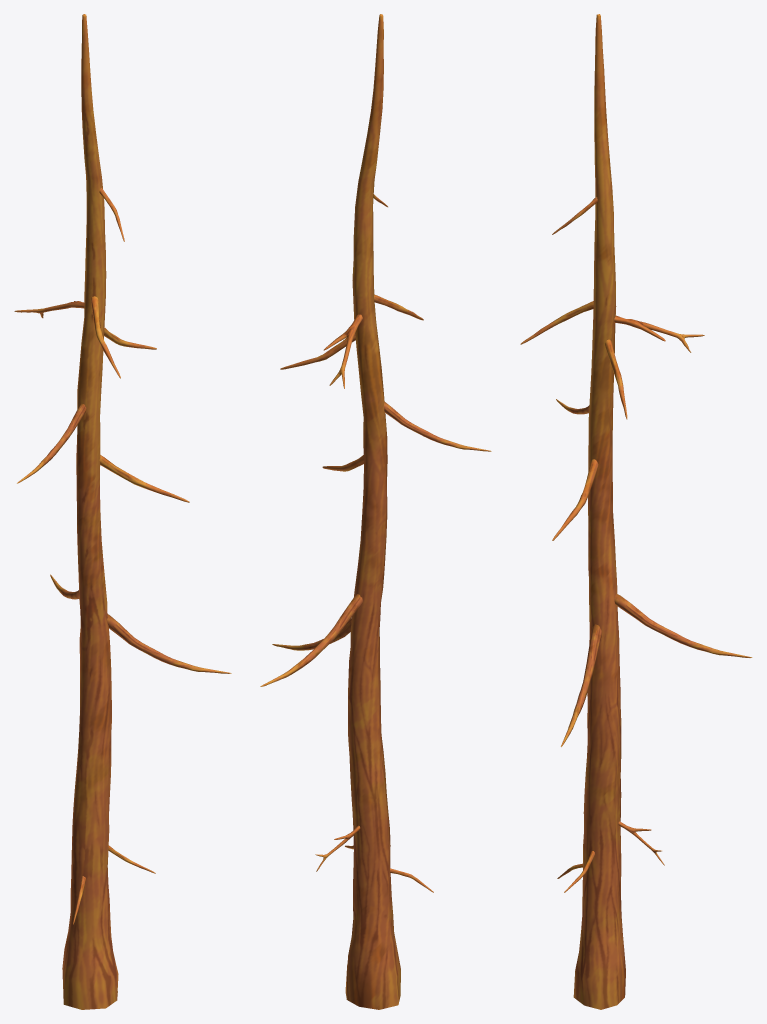
File: tree_4_hb.glb
The picture shows the model from 3 angles, left to right: view 1: azimuth 30°, elevation 25°; view 2: azimuth 150°, elevation 25°; view 3: azimuth 270°, elevation 25°; orthographic projection.
Visible parts, largest first — view 1: hit_box4; view 2: hit_box4; view 3: hit_box4.
Boxes of the visible parts, left/top/right/bottom form: hit_box4: left=14, top=14, right=231, bottom=1009; hit_box4: left=260, top=14, right=491, bottom=1009; hit_box4: left=520, top=14, right=752, bottom=1009.
Bounding box in the file's own units: 3.31 × 14.36 × 3.08.
1 material, 1 textured.
